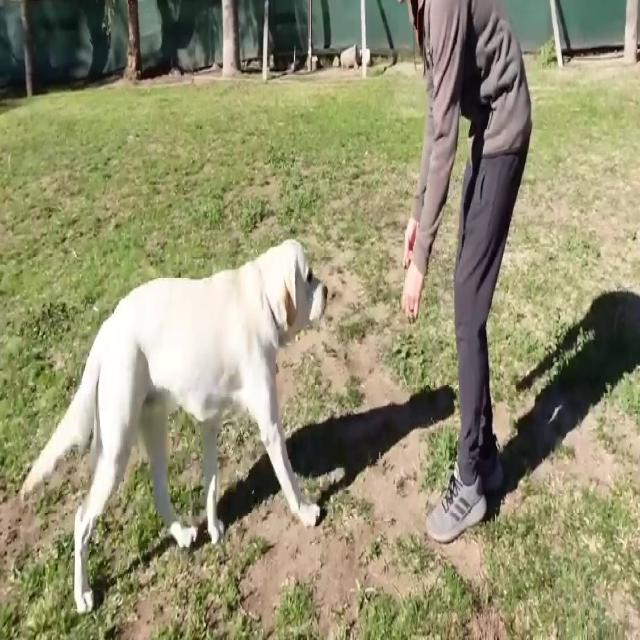Unleashed_Dog: (20, 241, 488, 616)
